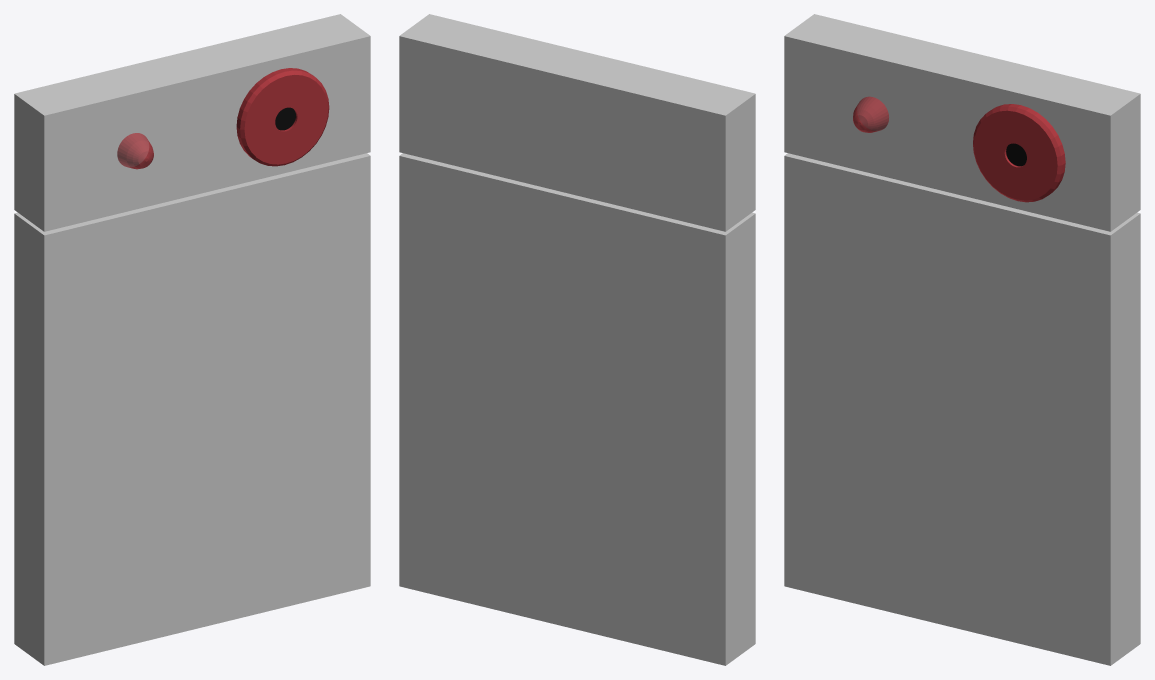
The model's file is Poster_fire.fbx.
3 views of the same model, side by side, from view 1: azimuth 30°, elevation 25°; view 2: azimuth 150°, elevation 25°; view 3: azimuth 330°, elevation 25° (orthographic).
Visible parts, largest first — view 1: 立方体, 立方体.001, 円柱, 円柱.002; view 2: 立方体, 立方体.001; view 3: 立方体, 立方体.001, 円柱, 円柱.002.
Part boxes in pixels (x1,y1,x2,y2): 立方体: (14,153,370,665); 立方体.001: (14,14,370,231); 円柱: (236,68,329,166); 円柱.002: (117,133,153,169); 立方体: (399,153,755,665); 立方体.001: (399,14,755,231); 立方体: (784,153,1140,665); 立方体.001: (784,14,1140,231); 円柱: (973,104,1065,202); 円柱.002: (853,96,888,132).
Bounding box in the file's own units: 100 × 161 × 23.19.
